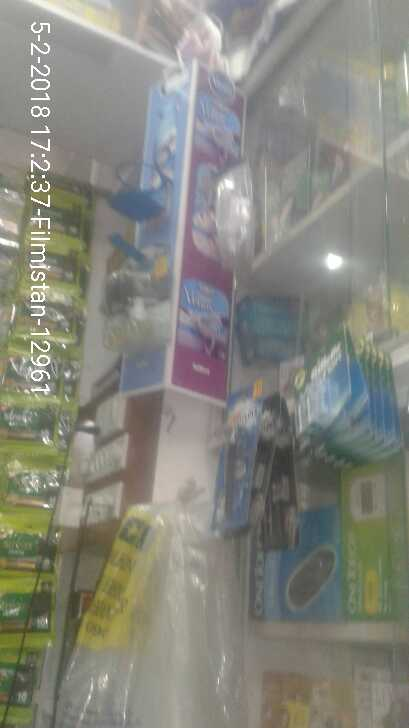reject: (122, 275, 276, 437)
